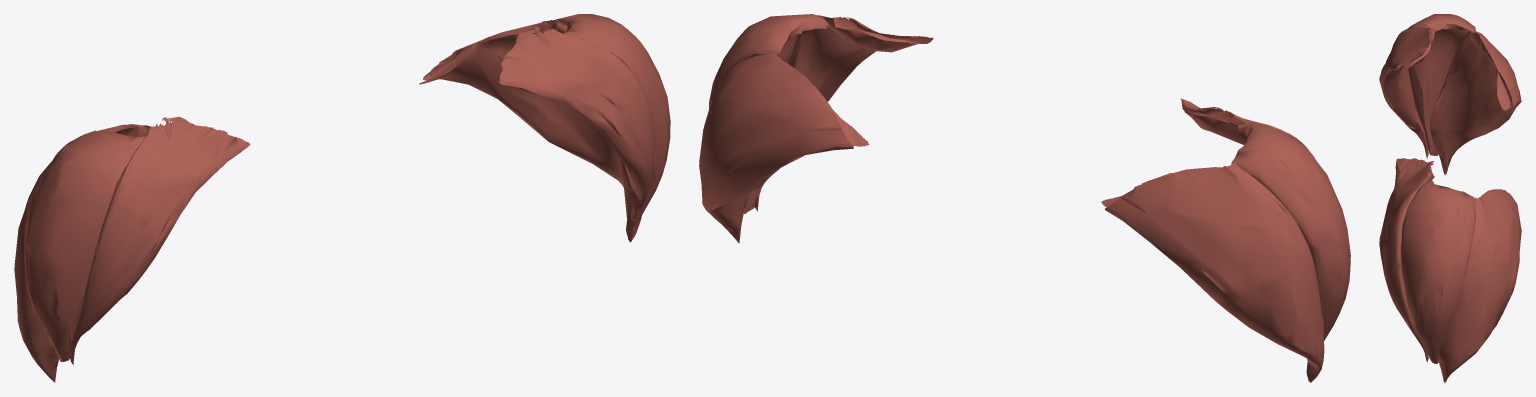
The model's file is deltoid.glb.
3 renders of one model, left to right at view 1: azimuth 30°, elevation 25°; view 2: azimuth 150°, elevation 25°; view 3: azimuth 270°, elevation 25°, orthographic. The views are drawn at different scales.
Visible parts, largest first — view 1: Deltoid; view 2: Deltoid; view 3: Deltoid.
Part boxes in pixels (x1,y1,x2,y2): Deltoid: [14, 14, 670, 382]; Deltoid: [699, 14, 1350, 382]; Deltoid: [1379, 14, 1521, 382].
Size of the model in its own units: 0.4545 by 0.1676 by 0.1186.
